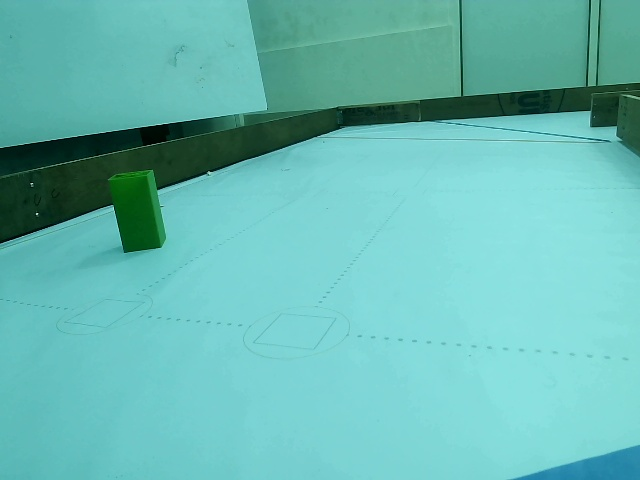green: (113, 175, 159, 253)
